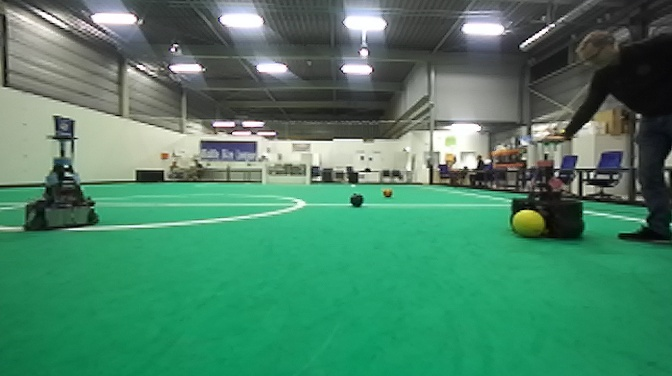ball: (508, 208, 546, 240), (348, 191, 365, 209), (379, 186, 395, 199)
goal: (260, 161, 313, 187)
goalpost: (305, 162, 312, 186), (261, 162, 268, 186)
human_part: (529, 24, 672, 247)
robot: (509, 136, 591, 242), (22, 133, 105, 234)
